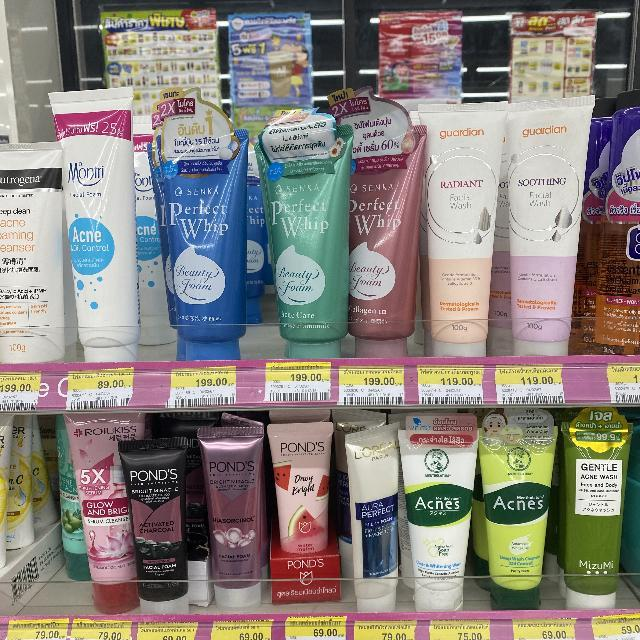Squeeze Tube: (37, 72, 640, 394)
